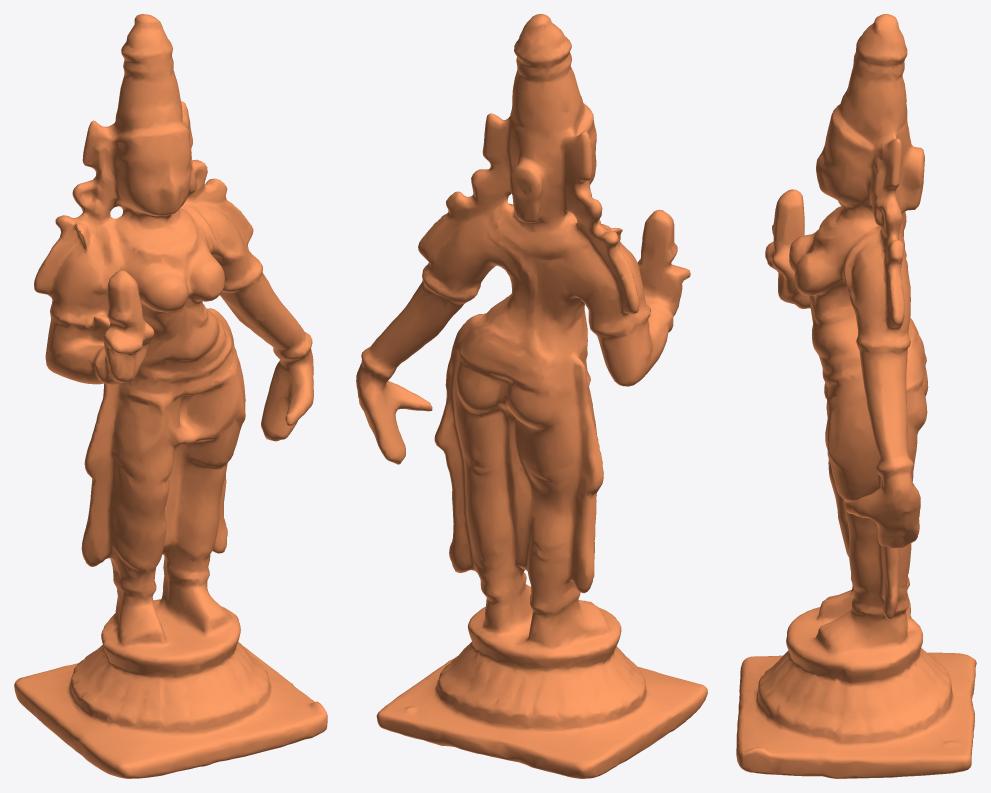
The model's file is Saivam_Amman_right_04.glb.
The picture shows the model from 3 angles, left to right: view 1: azimuth 30°, elevation 25°; view 2: azimuth 150°, elevation 25°; view 3: azimuth 270°, elevation 25°; orthographic projection. The views are drawn at different scales.
Visible parts, largest first — view 1: Saivam_Amman_right_04; view 2: Saivam_Amman_right_04; view 3: Saivam_Amman_right_04.
Part boxes in pixels (<box>): Saivam_Amman_right_04: <box>14,14,327,778</box>; Saivam_Amman_right_04: <box>356,14,707,778</box>; Saivam_Amman_right_04: <box>736,14,976,778</box>.
Bounding box in the file's own units: 0.3225 × 0.7837 × 0.2416.
